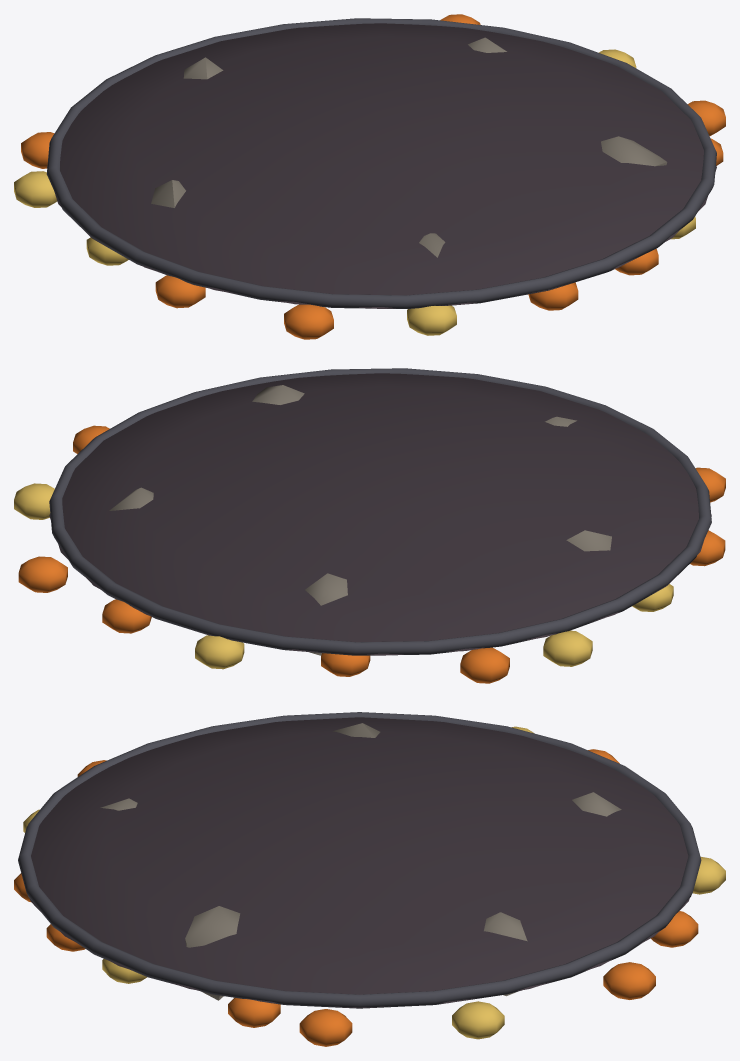
Rendered from d_griddle.fbx.
The picture shows the model from 3 angles, top to bottom: view 1: azimuth 30°, elevation 25°; view 2: azimuth 150°, elevation 25°; view 3: azimuth 270°, elevation 25°; orthographic projection. The views are drawn at different scales.
Parts seen in each view (by area): view 1: d_griddle; view 2: d_griddle; view 3: d_griddle.
Part boxes in pixels (bbox=[...]): d_griddle: bbox=[14, 14, 725, 339]; d_griddle: bbox=[14, 368, 725, 683]; d_griddle: bbox=[14, 712, 725, 1046].
Bounding box in the file's own units: 3.41 × 0.5439 × 3.34.
